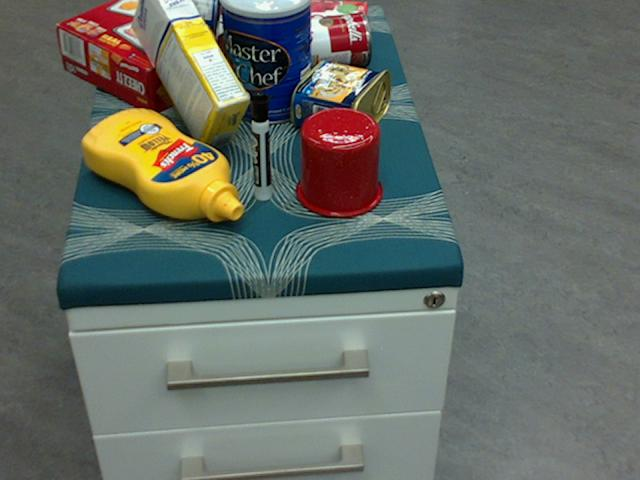cracker_box: (57, 0, 272, 115)
gelatin_box: (297, 1, 366, 42)
large_marker: (249, 91, 270, 199)
master_chef_can: (220, 0, 311, 124)
mug: (293, 106, 381, 216)
mustard_bottle: (81, 109, 242, 220)
potted_meat_can: (290, 58, 390, 144)
sugar_box: (132, 0, 252, 151)
tomato_soup_can: (281, 10, 371, 73)
tuna_fish_can: (185, 0, 219, 47)
